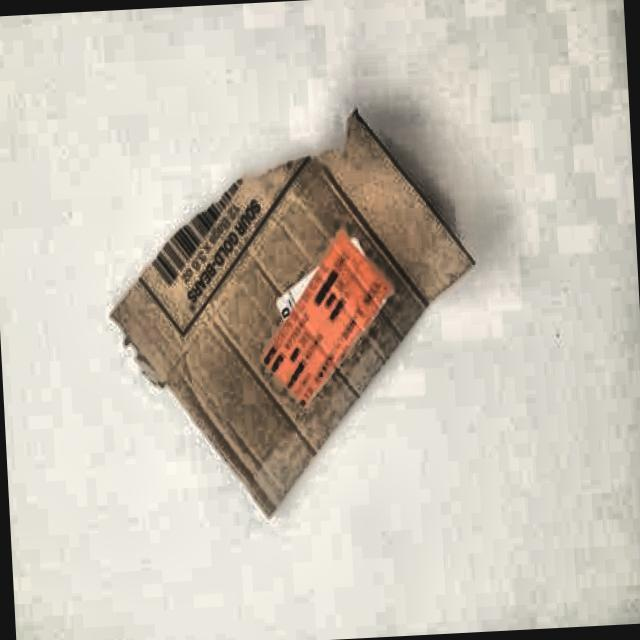cardboard: (98, 100, 488, 526)
